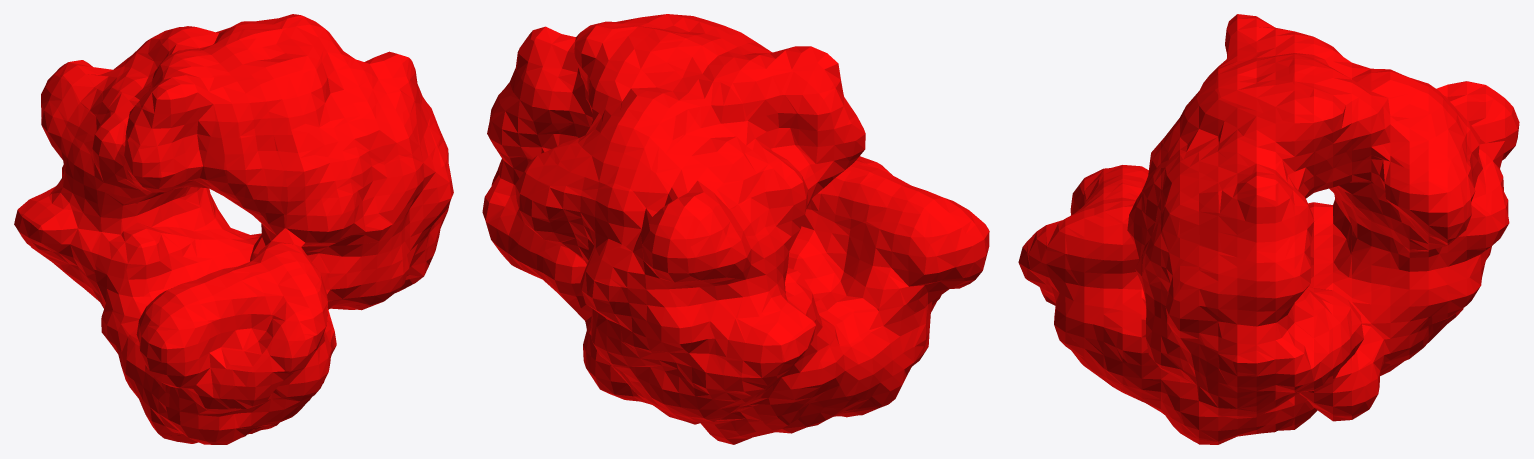
The model's file is plsB_coarse.dae.
3 views of the same model, side by side, from view 1: azimuth 30°, elevation 25°; view 2: azimuth 150°, elevation 25°; view 3: azimuth 270°, elevation 25° (orthographic). The views are drawn at different scales.
Parts seen in each view (by area): view 1: plsB; view 2: plsB; view 3: plsB.
Boxes of the visible parts, x1,y1,x2,y2 form: plsB: (14, 14, 453, 444); plsB: (482, 14, 989, 444); plsB: (1018, 14, 1519, 444).
Size of the model in its own units: 84.11 by 78.17 by 89.82.
